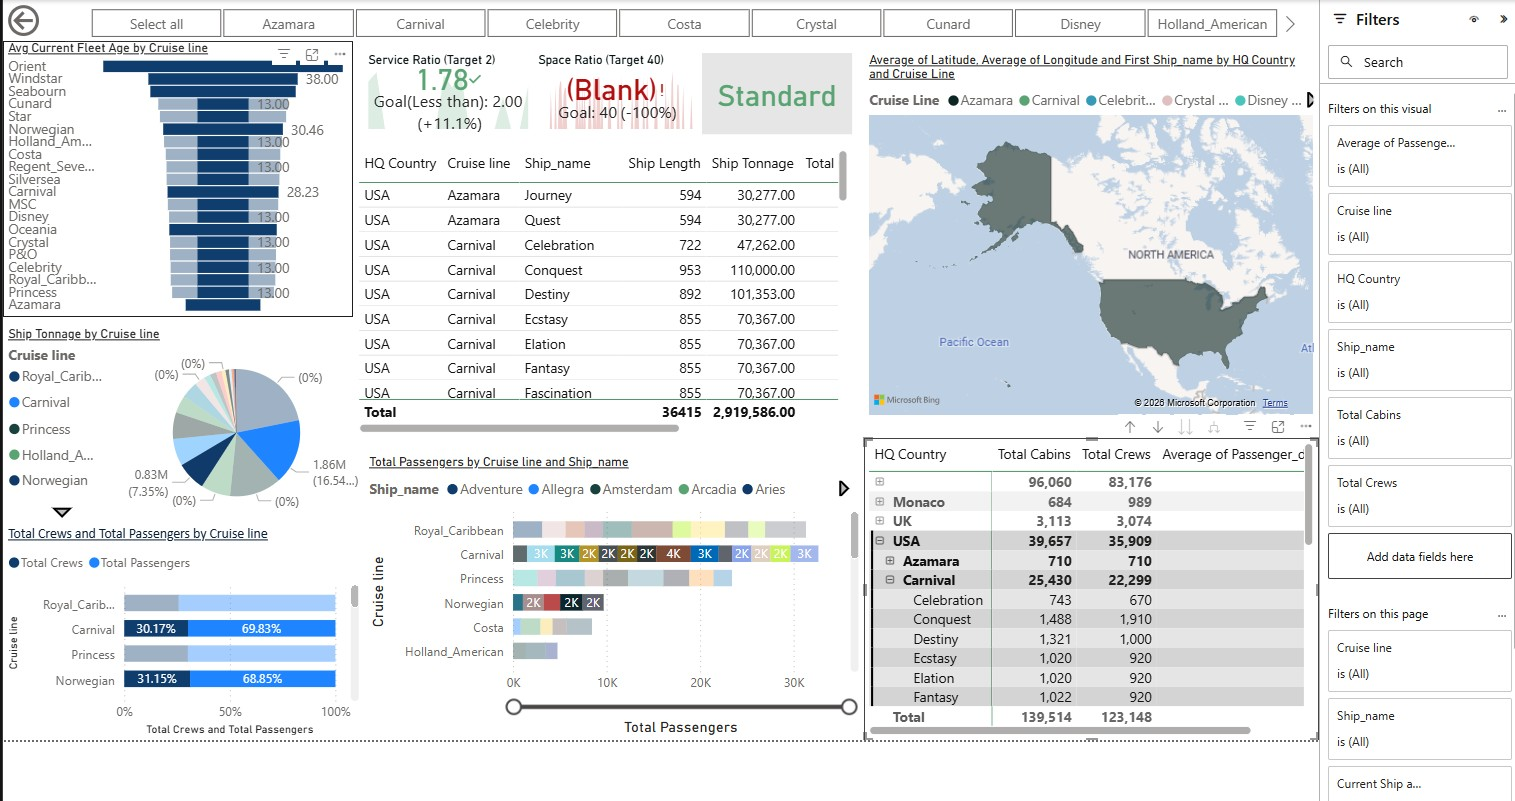

The page's visual inventory and layout, read from the dashboard file:
{"tool":"powerbi","page":{"name":"Cruise line Dashboard","canvas":[1280,720],"ordinal":0},"visuals":[{"type":"barChart","fields":{"Category":["cruise_ship_info.Cruise_line"],"Y":["cruise_ship_info.Total Passengers"],"Series":["cruise_ship_info.Ship_name"]},"box":[351.1,442.6,486.3,277.2],"z":0},{"type":"pieChart","fields":{"Category":["cruise_ship_info.Cruise_line"],"Y":["cruise_ship_info.Ship Tonnage"]},"box":[0,318.1,351.1,192.6],"z":1000},{"type":"tableEx","fields":{"Values":["Cruise_HQ_Locations.HQ Country","cruise_ship_info.Cruise_line","cruise_ship_info.Ship_name","cruise_ship_info.Ship Length","cruise_ship_info.Ship Tonnage","cruise_ship_info.Total Cabins","cruise_ship_info.Total Crews","cruise_ship_info.Total Passengers"]},"box":[340.4,141,486.3,285],"z":2000},{"type":"funnel","fields":{"Category":["cruise_ship_info.Cruise_line"],"Y":["cruise_ship_info.Avg Current Fleet Age"]},"box":[0,39.9,340.4,268.4],"z":3000},{"type":"actionButton","box":[0,0,100,40],"z":4000},{"type":"hundredPercentStackedBarChart","fields":{"Category":["cruise_ship_info.Cruise_line"],"Y":["cruise_ship_info.Total Crews","cruise_ship_info.Total Passengers"]},"box":[0,510.4,351.3,209.2],"z":5000},{"type":"filledMap","fields":{"Y":["Avg(Cruise_HQ_Locations.Latitude)"],"X":["Avg(Cruise_HQ_Locations.Longitude)"],"Category":["Cruise_HQ_Locations.HQ Country"],"Series":["Cruise_HQ_Locations.Cruise Line"]},"box":[837.6,51.4,442.4,357],"z":6000},{"type":"pivotTable","fields":{"Rows":["Cruise_HQ_Locations.HQ Country","cruise_ship_info.Cruise line","cruise_ship_info.Ship_name"],"Values":["cruise_ship_info.Total Cabins","cruise_ship_info.Total Crews","Avg(cruise_ship_info.Passenger_density)"]},"box":[837.6,426,442.4,294.3],"z":7000},{"type":"kpi","title":"Service Ratio (Target 2)","fields":{"Indicator":["cruise_ship_info.Service Ratio"],"Goal":["cruise_ship_info.Service Target"],"TrendLine":["cruise_ship_info.Cruise line"]},"box":[349.8,51.4,165.7,79.2],"z":8000},{"type":"kpi","title":"Space Ratio (Target 40)","fields":{"Indicator":["cruise_ship_info.Space Ratio"],"TrendLine":["cruise_ship_info.Ship_name"],"Goal":["cruise_ship_info.Space Target"]},"box":[515.5,51.4,164.6,79.2],"z":9000},{"type":"card","fields":{"Values":["cruise_ship_info.Premium Status"]},"box":[679.9,51.6,145.9,78.8],"z":10000},{"type":"slicer","fields":{"Values":["cruise_ship_info.Cruise line"]},"box":[60.3,1.9,1203.2,37.9],"z":11000}]}

Visuals, with their boxes on the page's 1280x720 design canvas (x1, y1, x2, y2). These are canvas units, not pixel positions in the 1515x801 screenshot, which may show the page scaled, cropped or inside an application window:
barChart - cruise_ship_info.Cruise_line x cruise_ship_info.Total Passengers: rect(351, 443, 837, 720)
pieChart - cruise_ship_info.Cruise_line x cruise_ship_info.Ship Tonnage: rect(0, 318, 351, 511)
tableEx - Cruise_HQ_Locations.HQ Country x cruise_ship_info.Cruise_line: rect(340, 141, 827, 426)
funnel - cruise_ship_info.Cruise_line x cruise_ship_info.Avg Current Fleet Age: rect(0, 40, 340, 308)
actionButton: rect(0, 0, 100, 40)
hundredPercentStackedBarChart - cruise_ship_info.Cruise_line x cruise_ship_info.Total Crews: rect(0, 510, 351, 720)
filledMap - Avg(Cruise_HQ_Locations.Latitude) x Avg(Cruise_HQ_Locations.Longitude): rect(838, 51, 1280, 408)
pivotTable - Cruise_HQ_Locations.HQ Country x cruise_ship_info.Cruise line: rect(838, 426, 1280, 720)
"Service Ratio (Target 2)" kpi: rect(350, 51, 516, 131)
"Space Ratio (Target 40)" kpi: rect(516, 51, 680, 131)
card - cruise_ship_info.Premium Status: rect(680, 52, 826, 130)
slicer - cruise_ship_info.Cruise line: rect(60, 2, 1264, 40)
